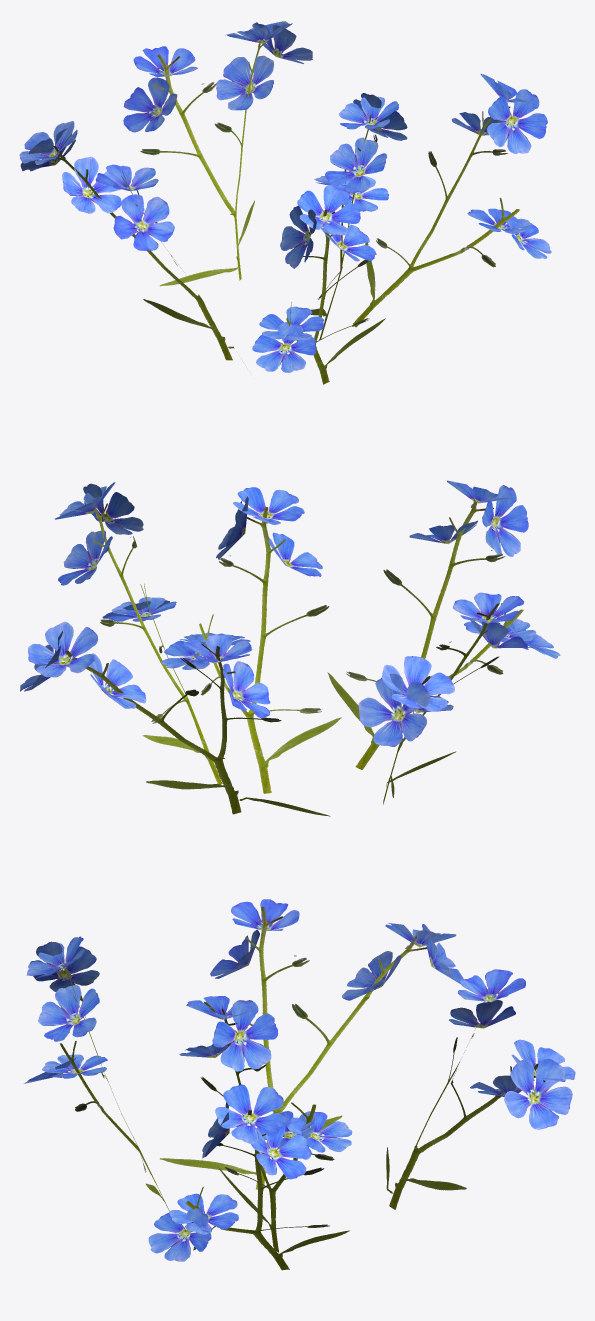
File: Wild_Flax Geo.fbx
The picture shows the model from 3 angles, top to bottom: view 1: azimuth 30°, elevation 25°; view 2: azimuth 150°, elevation 25°; view 3: azimuth 270°, elevation 25°; orthographic projection. The views are drawn at different scales.
Parts seen in each view (by area): view 1: Flax_Type_02, Flax_Type_01, Flax_Type_04, Flax_Type_03, Flax_Type_05; view 2: Flax_Type_02, Flax_Type_04, Flax_Type_05, Flax_Type_01, Flax_Type_03; view 3: Flax_Type_03, Flax_Type_02, Flax_Type_04, Flax_Type_05, Flax_Type_01.
Boxes of the visible parts, x1,y1,x2,y2 form: Flax_Type_02: (123,21,312,286); Flax_Type_01: (252,185,385,384); Flax_Type_04: (19,121,243,362); Flax_Type_03: (353,74,551,327); Flax_Type_05: (311,93,407,339); Flax_Type_02: (20,621,330,816); Flax_Type_04: (358,592,532,804); Flax_Type_05: (161,487,341,793); Flax_Type_01: (327,480,560,769); Flax_Type_03: (55,482,222,784); Flax_Type_03: (148,1084,349,1270); Flax_Type_02: (386,969,575,1209); Flax_Type_04: (160,899,463,1189); Flax_Type_05: (179,996,352,1252); Flax_Type_01: (23,936,169,1211).
Size of the model in its own units: 26.25 by 15.63 by 26.78.
